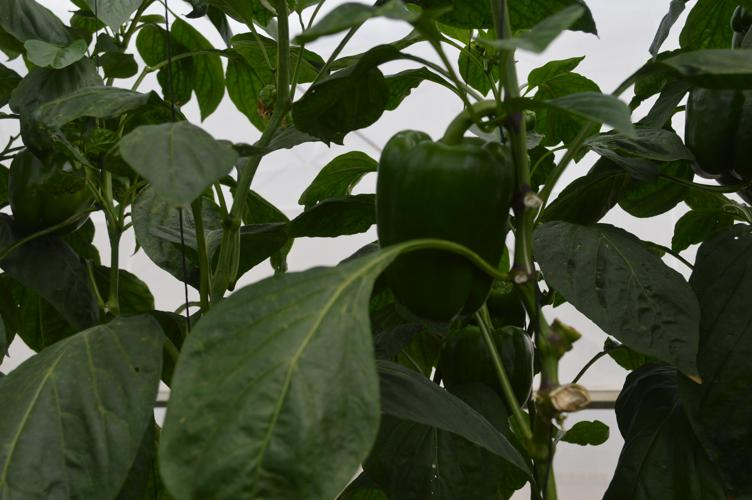BellPepper: (373, 130, 516, 307), (443, 326, 536, 413), (7, 149, 97, 234), (682, 91, 751, 179)
